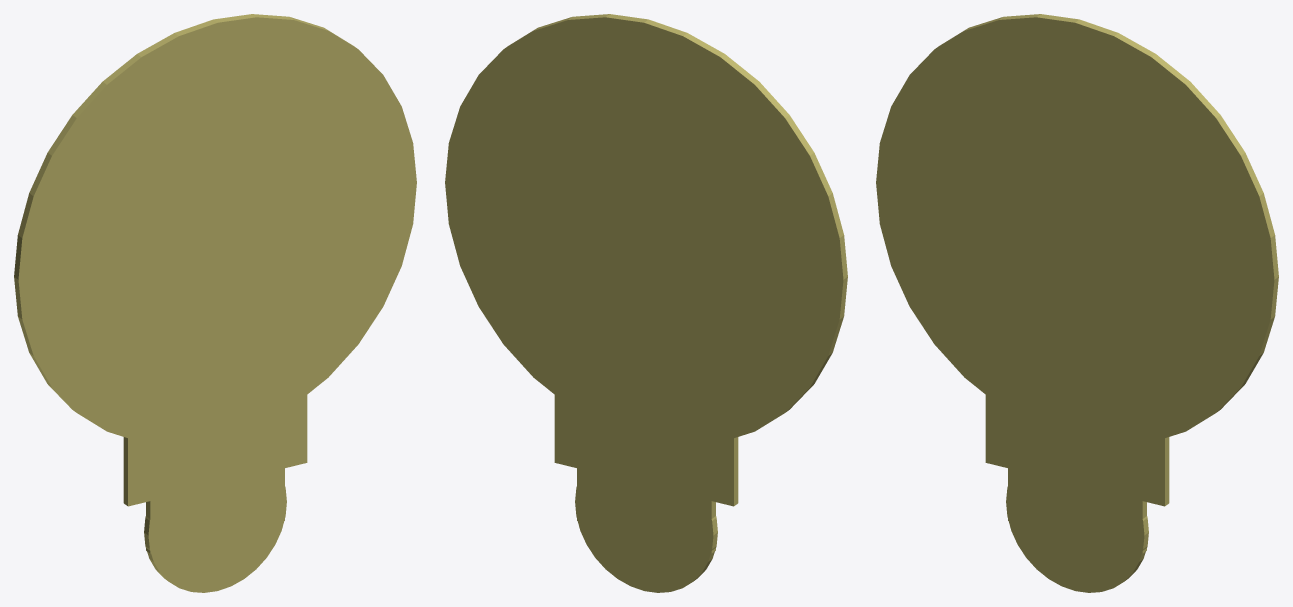
File: bombilla.fbx
3 views of the same model, side by side, from view 1: azimuth 30°, elevation 25°; view 2: azimuth 150°, elevation 25°; view 3: azimuth 330°, elevation 25° (orthographic).
Visible parts, largest first — view 1: Bombilla; view 2: Bombilla; view 3: Bombilla.
Part boxes in pixels (x1,y1,x2,y2): Bombilla: [14, 14, 416, 592]; Bombilla: [445, 14, 847, 592]; Bombilla: [876, 14, 1278, 592].
Size of the model in its own units: 200 by 273 by 3.91.
